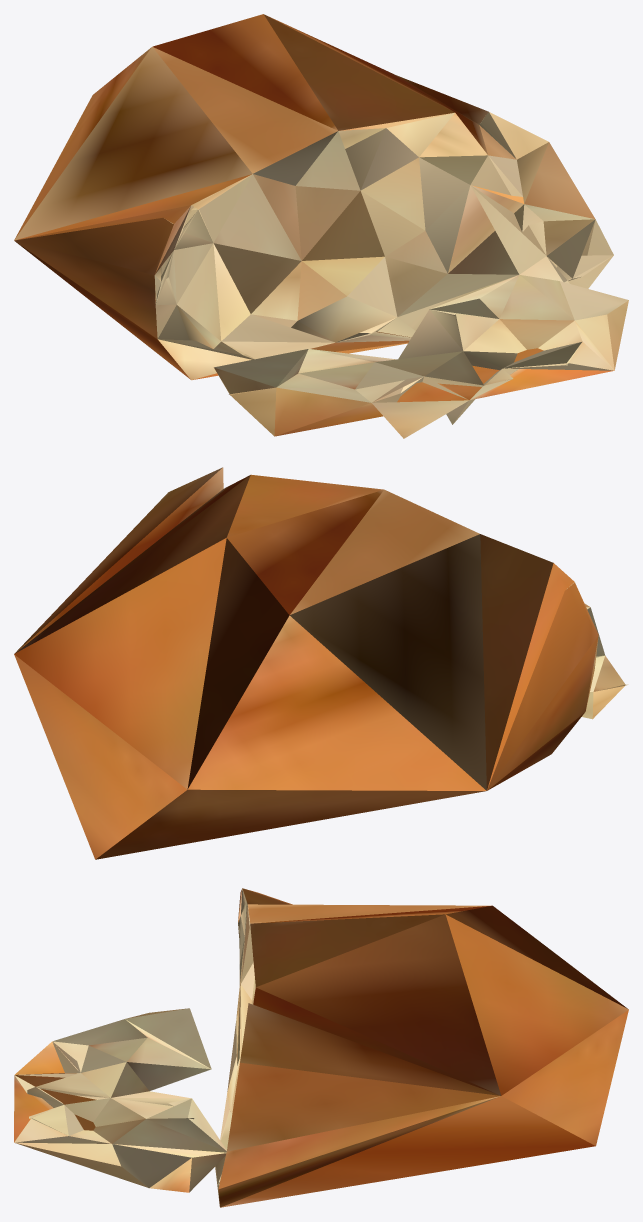
File: crumb.glb
The picture shows the model from 3 angles, top to bottom: view 1: azimuth 30°, elevation 25°; view 2: azimuth 150°, elevation 25°; view 3: azimuth 270°, elevation 25°; orthographic projection. The views are drawn at different scales.
Parts seen in each view (by area): view 1: Mesh_0; view 2: Mesh_0; view 3: Mesh_0.
Boxes of the visible parts, <box> form: Mesh_0: <box>14,14,628,438</box>; Mesh_0: <box>14,467,628,859</box>; Mesh_0: <box>14,888,628,1207</box>.
Size of the model in its own units: 1.4 by 0.7307 by 1.8.
1 material, 1 textured.
